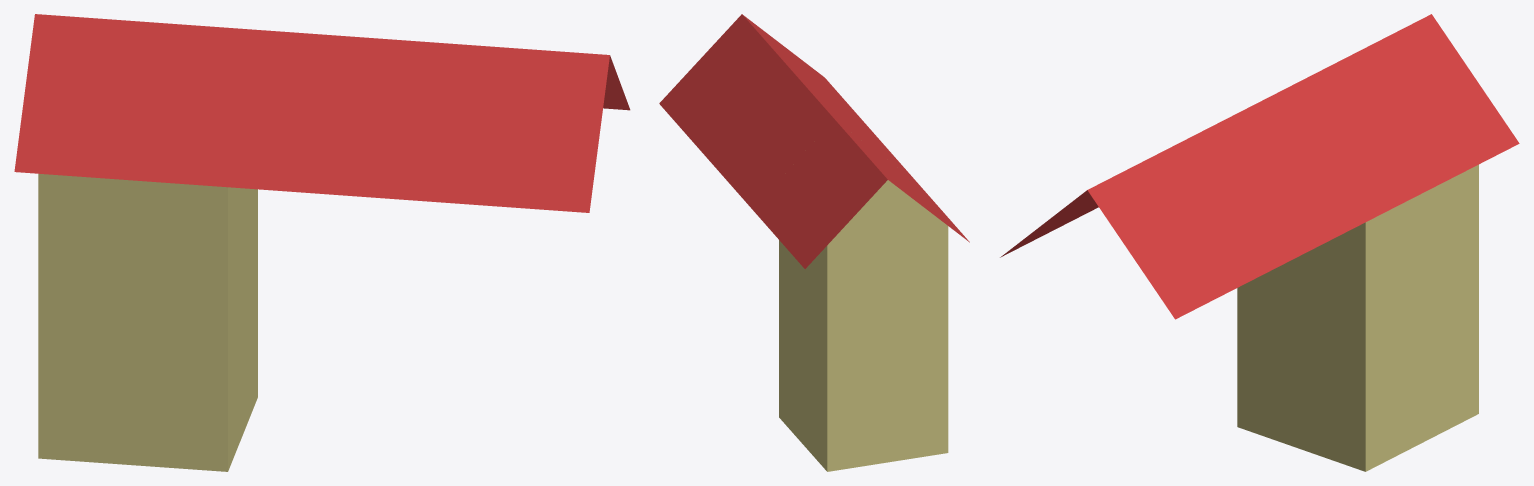
3 renders of one model, left to right at view 1: azimuth 30°, elevation 25°; view 2: azimuth 150°, elevation 25°; view 3: azimuth 270°, elevation 25°, orthographic. The views are drawn at different scales.
Size of the model in its own units: 13.99 by 12.96 by 10.25.
